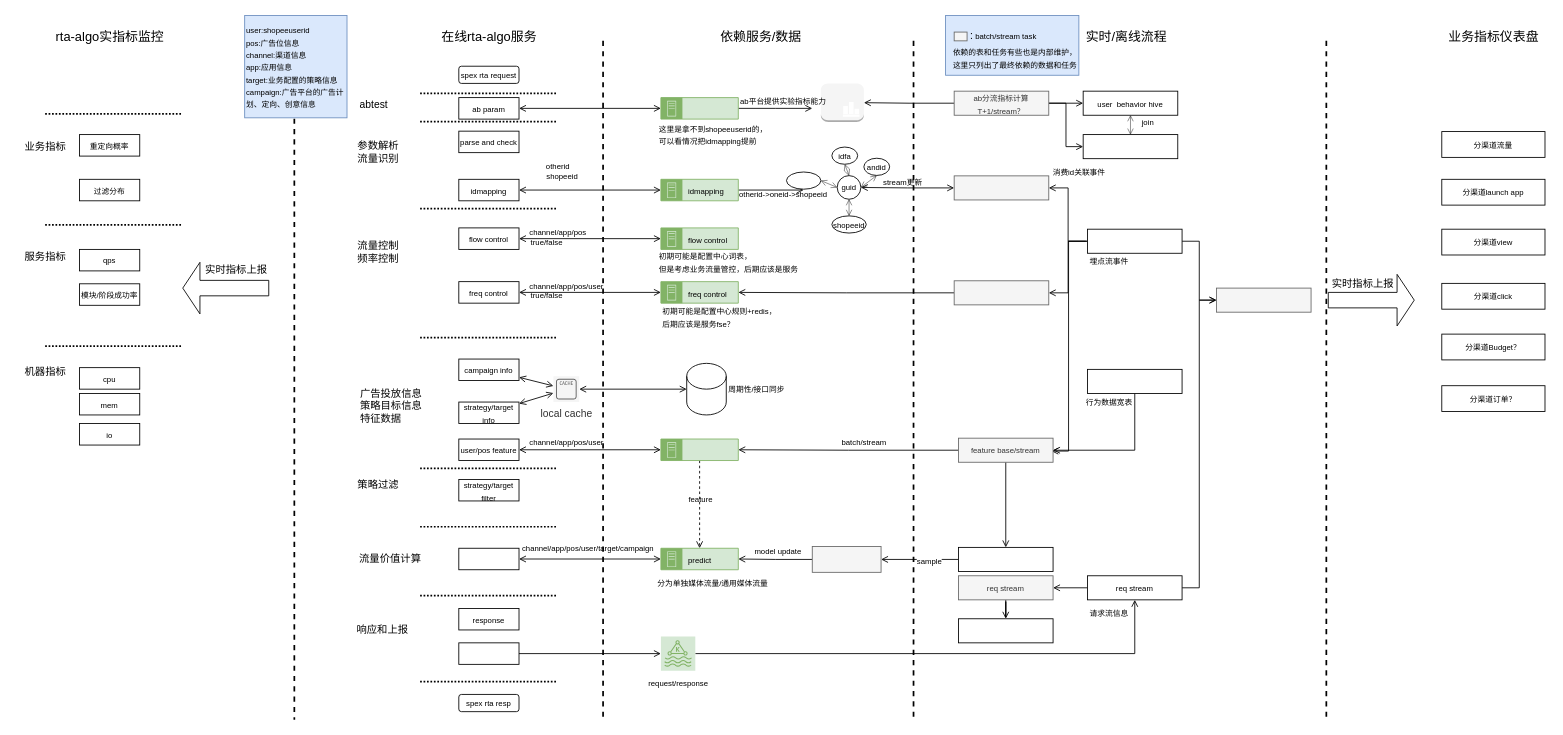
This 1563x735 diagram has some shape labels left out. Here are the shapes that lost their labels. From the top down, the centre of each, then its label:
the point at 699,108: ab platform
the point at 842,102: ab metric view report
the point at 1130,146: assigment log hive
the point at 803,180: gaid
the point at 1001,187: oneID mapping base/stream
the point at 1134,240: tms event stream
the point at 1001,292: freq stream
the point at 1263,299: busi metric stream
the point at 706,388: redis
the point at 1134,381: user/ctx/ads behavior hive
the point at 699,449: fse feature
the point at 488,558: ltv
the point at 846,559: train
the point at 1005,559: feature hive
the point at 1005,630: req record hive
the point at 488,653: report
